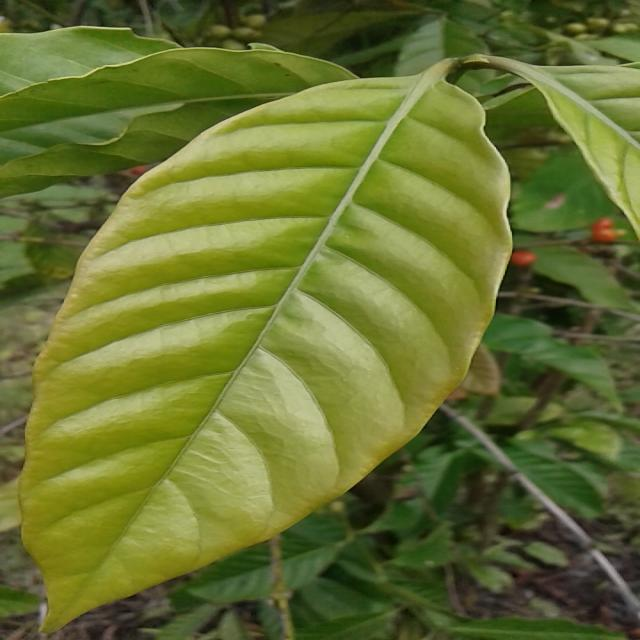Sanas: (18, 63, 513, 634)
